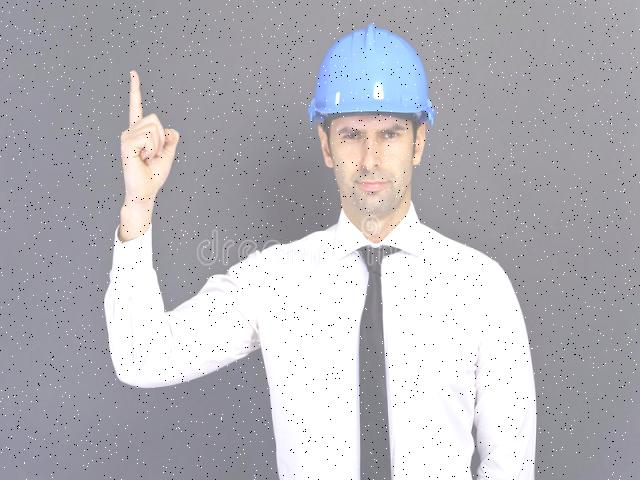Helmet: (303, 19, 439, 140)
